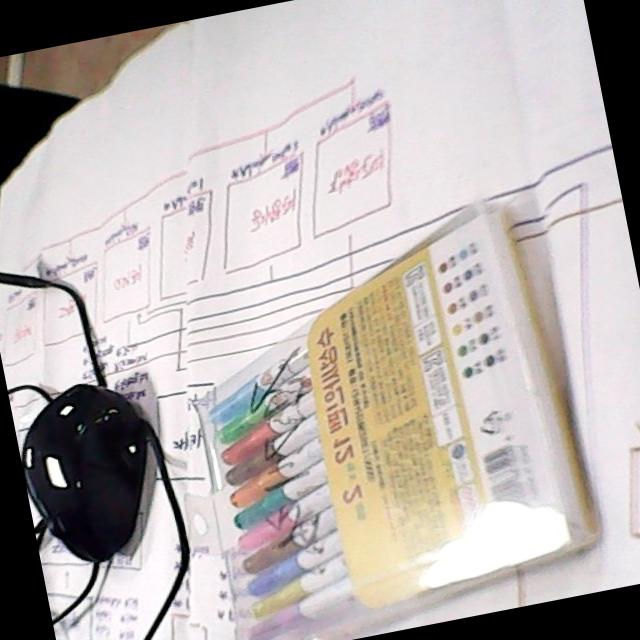mouse: (18, 376, 152, 572)
signpen: (181, 188, 615, 640)
